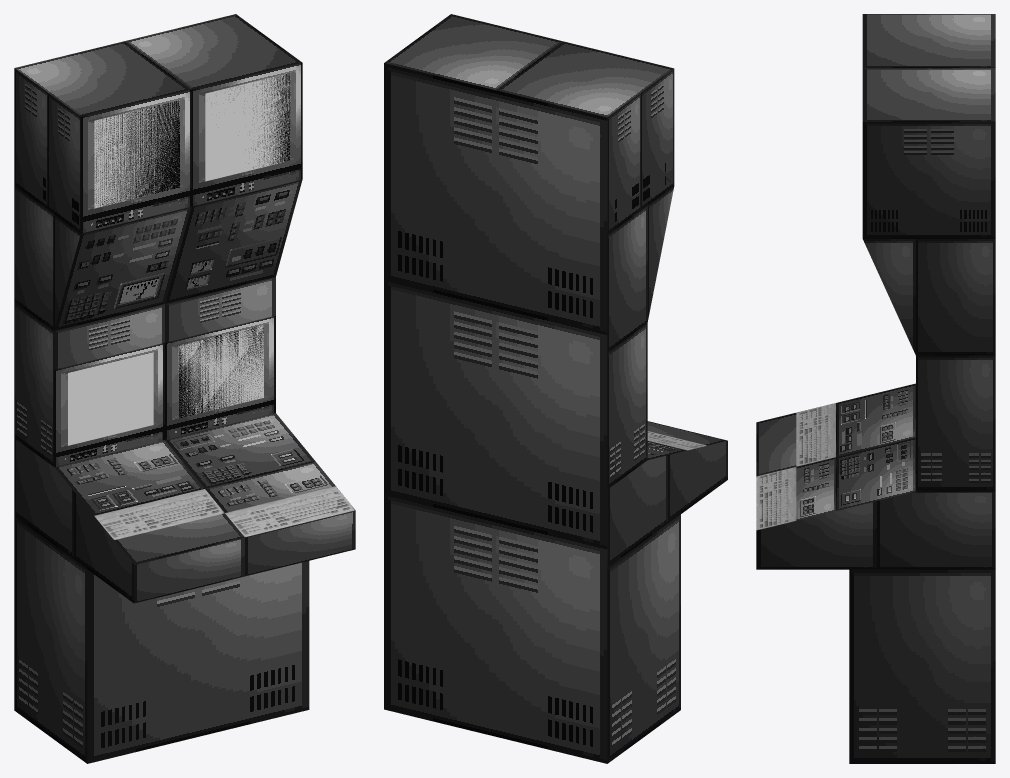
The model's file is primary_132.glb.
3 views of the same model, side by side, from view 1: azimuth 30°, elevation 25°; view 2: azimuth 150°, elevation 25°; view 3: azimuth 270°, elevation 25° (orthographic).
Parts seen in each view (by area): view 1: Object; view 2: Object; view 3: Object.
Boxes of the visible parts, left/top/right/bottom form: Object: left=14, top=14, right=355, bottom=763; Object: left=384, top=14, right=727, bottom=763; Object: left=756, top=14, right=995, bottom=763.
Bounding box in the file's own units: 1.1 × 3.05 × 1.03.
26 materials, 26 textured.
